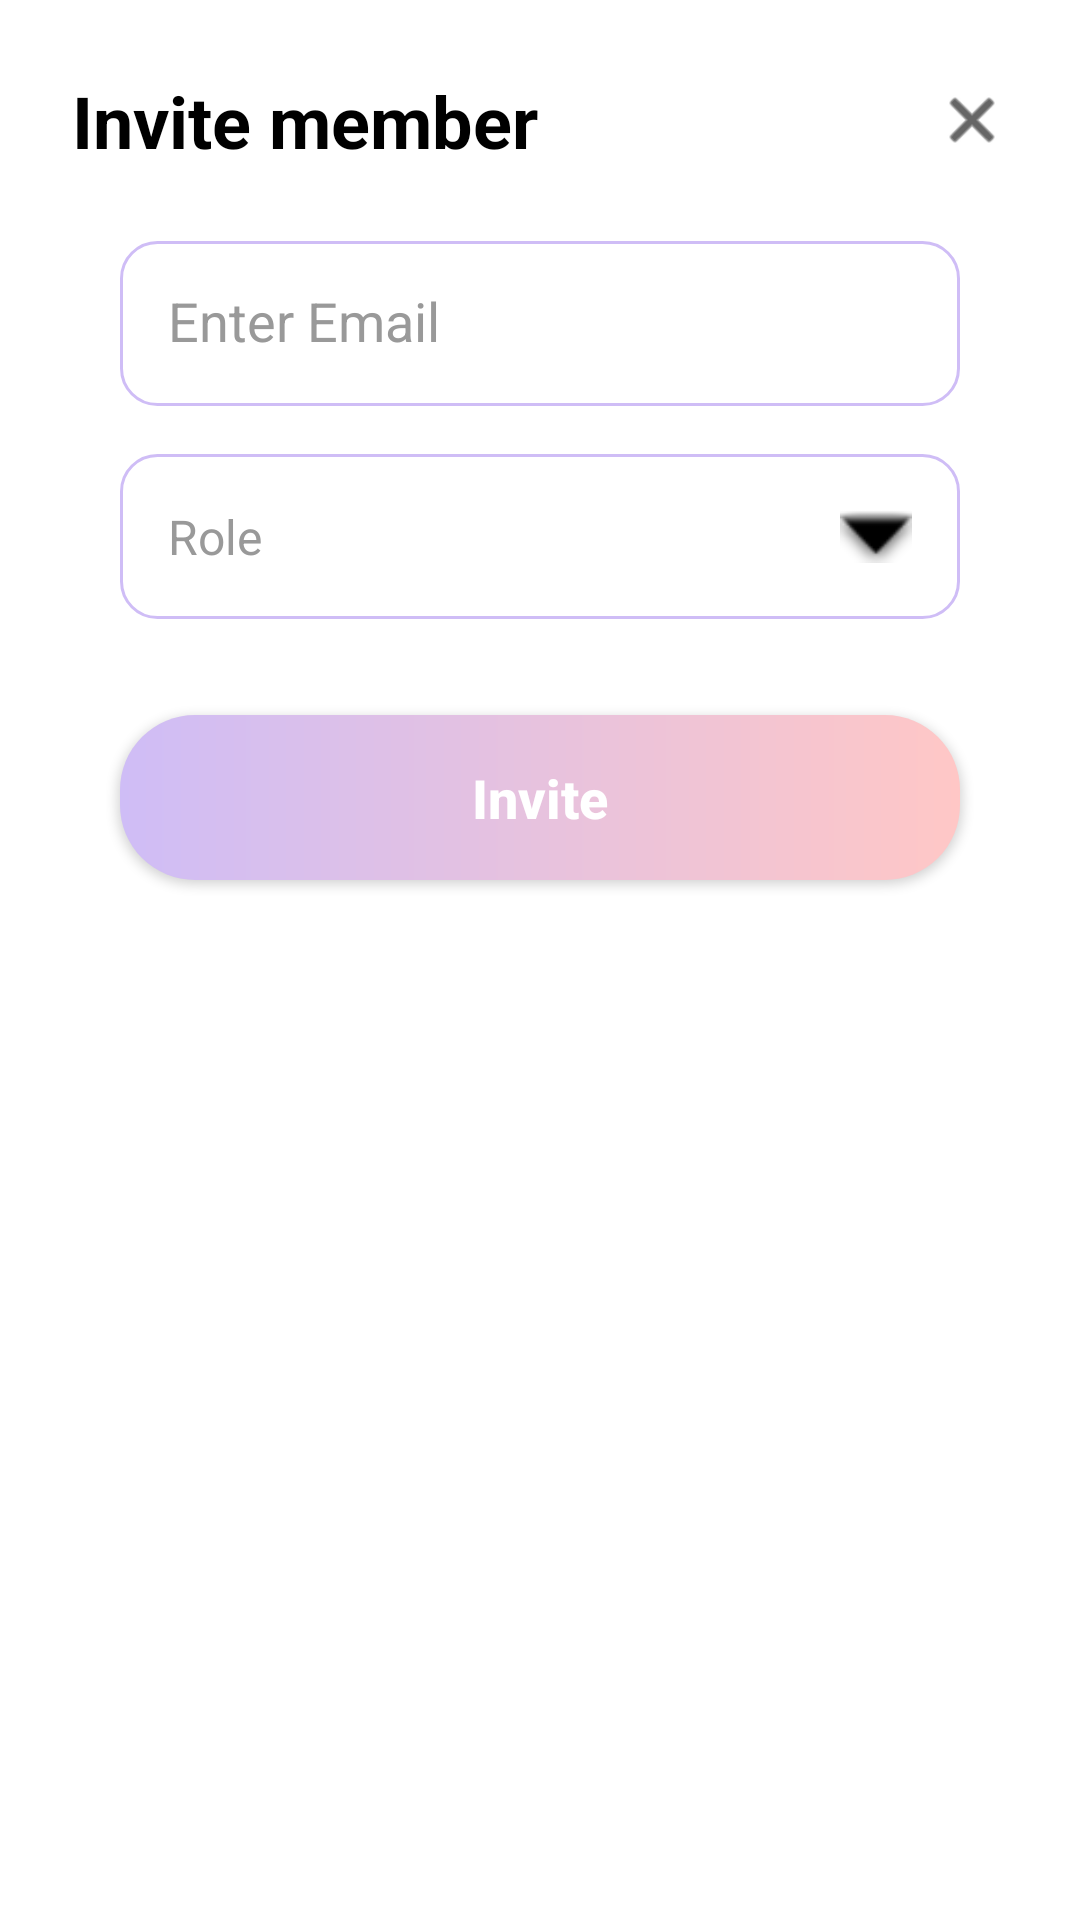

Named icons in this screenshot (1080 x 1920) and their bounding boxes, (x1, y1, x2, y2):
arrow down float: (840, 512, 912, 561)
close clear cancel: (949, 97, 995, 143)
